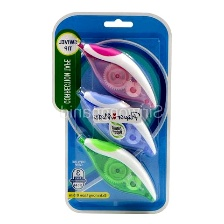book: (50, 9, 176, 215)
correction_fluid: (74, 85, 159, 158), (74, 39, 158, 111), (74, 132, 158, 204)
